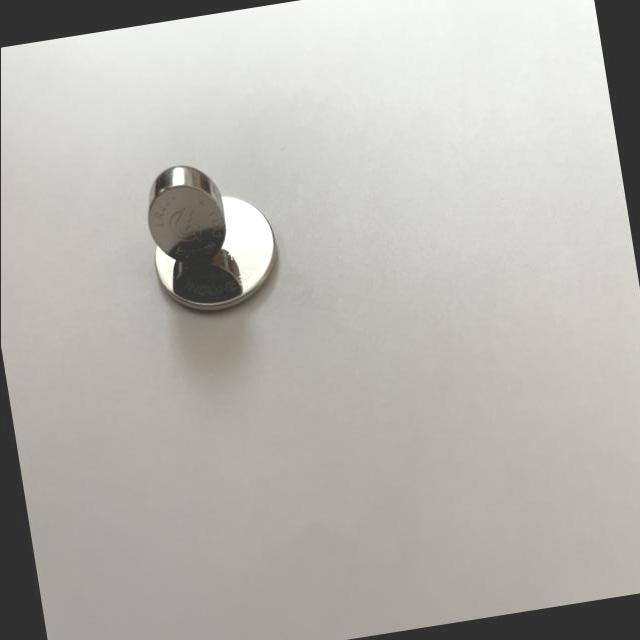COIN: (146, 187, 282, 316), (140, 160, 230, 266)
